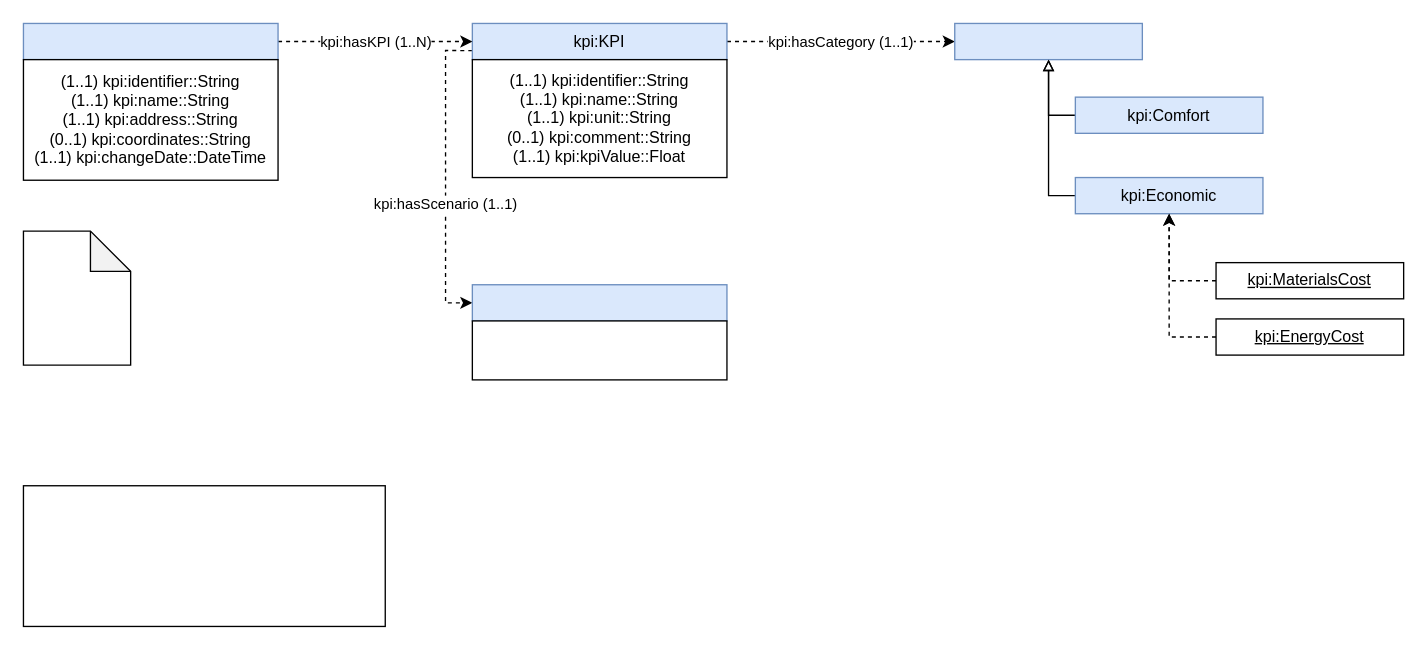
This 1427x650 diagram has some shape labels left out. Each missing label, with the centre of its shape:
"(1..1) kpi:identifier::String (1..1) kpi:name::String" belongs at (x=599, y=350).
"kpi:KPICategory" belongs at (x=1047, y=41).
"kpi:Project" belongs at (x=150, y=41).
"kpi:Scenario" belongs at (x=599, y=302).
